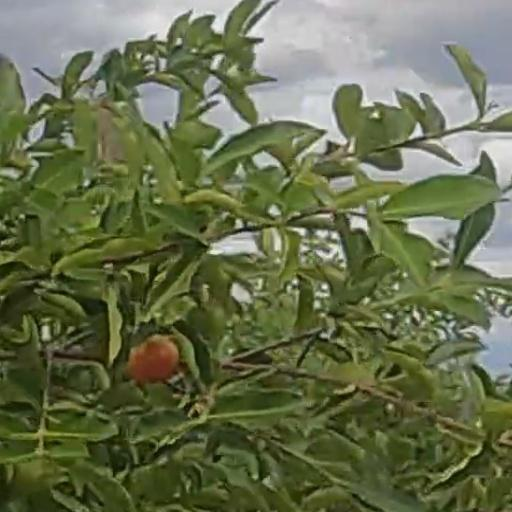acerola: (130, 341, 177, 381)
